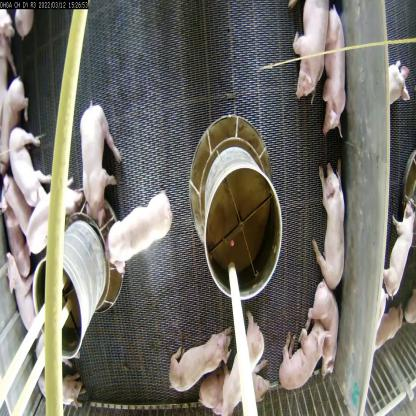Pig: (104, 190, 176, 281), (212, 307, 266, 415), (78, 98, 122, 229), (317, 6, 353, 142), (314, 156, 348, 295), (24, 183, 87, 254), (6, 129, 56, 215), (169, 326, 234, 390), (292, 0, 331, 104), (198, 362, 273, 413), (304, 274, 339, 380), (0, 247, 40, 335), (277, 322, 325, 392), (35, 361, 89, 416), (385, 204, 414, 304), (371, 300, 406, 350), (384, 54, 412, 114)
